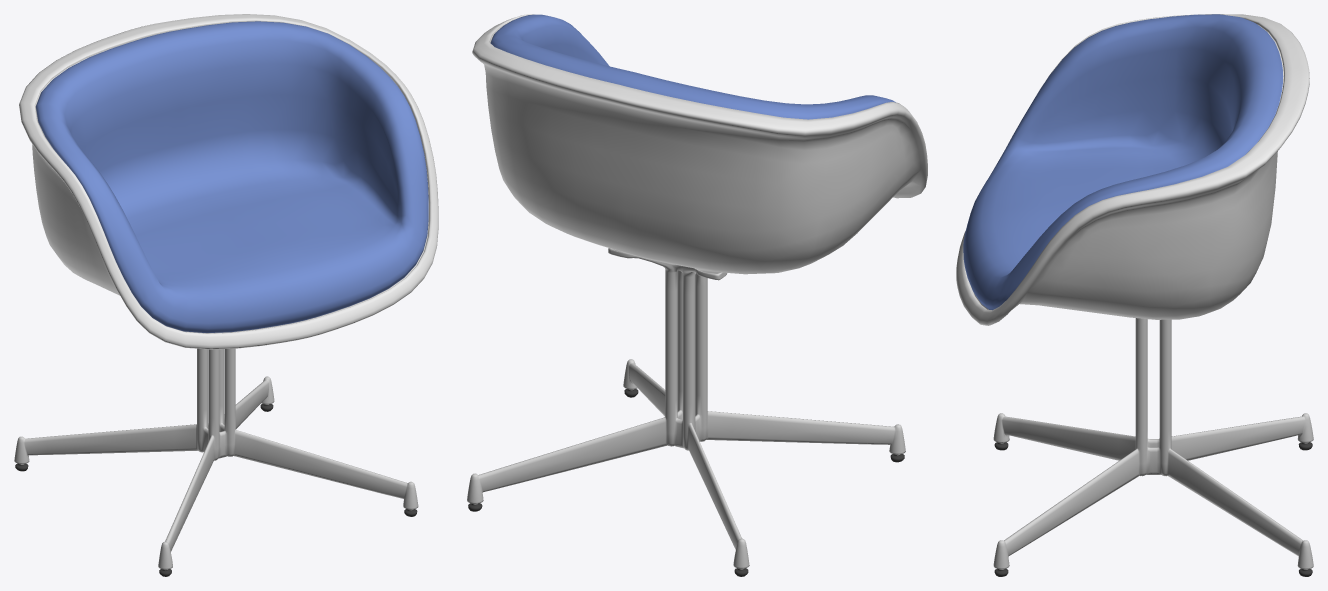
File: sh_scopia_modern_armchair.glb
The picture shows the model from 3 angles, left to right: view 1: azimuth 30°, elevation 25°; view 2: azimuth 150°, elevation 25°; view 3: azimuth 270°, elevation 25°; orthographic projection. The views are drawn at different scales.
Size of the model in its own units: 0.631 by 0.72 by 0.529.
